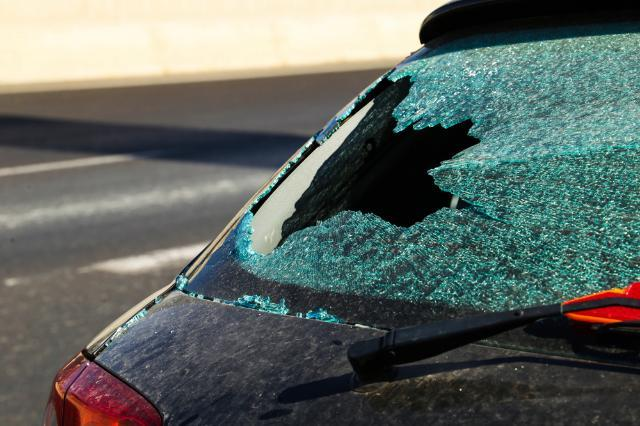glass shatter: (176, 20, 640, 331)
